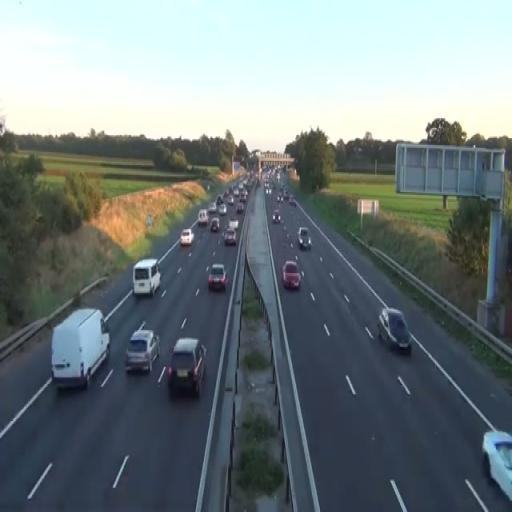Car: (167, 338, 207, 400), (481, 429, 512, 502), (124, 326, 160, 375), (377, 306, 411, 354), (132, 258, 162, 298), (207, 263, 227, 292), (282, 260, 300, 290), (298, 228, 311, 250), (224, 228, 238, 247), (180, 228, 194, 246), (272, 212, 281, 223)
Truck: (51, 307, 111, 390)
